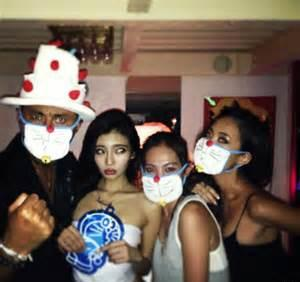NONE: (96, 143, 132, 180)
OK: (22, 106, 75, 157), (197, 127, 242, 175), (142, 162, 184, 206)
